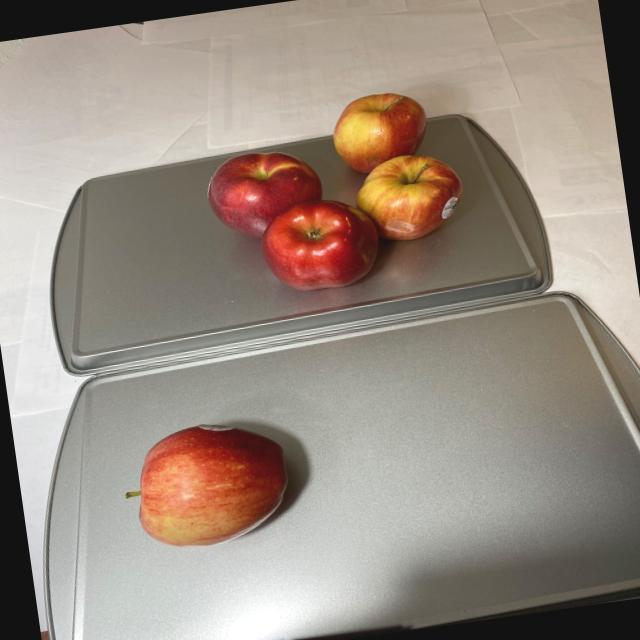apple: (191, 84, 478, 304), (113, 410, 305, 556)
